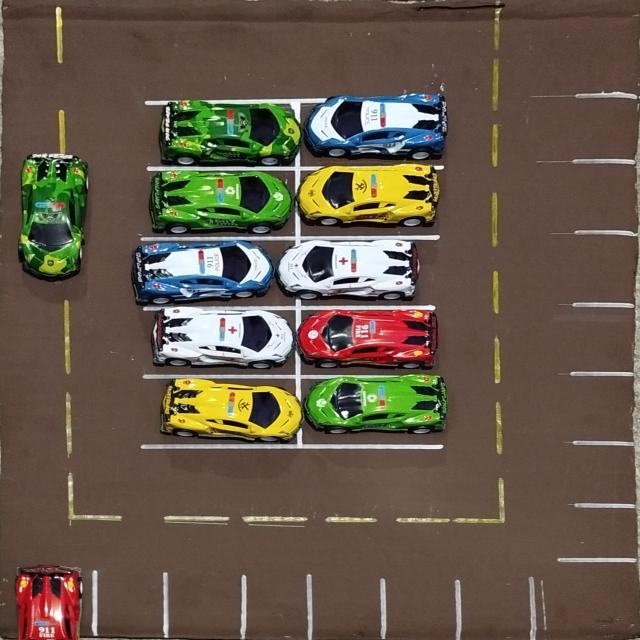libre: (93, 566, 166, 640), (167, 571, 245, 640), (384, 574, 458, 640), (460, 575, 534, 640), (245, 572, 312, 640), (573, 373, 640, 441), (575, 304, 640, 374), (577, 231, 640, 303), (313, 575, 382, 640), (576, 162, 640, 232), (574, 441, 640, 506), (577, 93, 640, 160), (574, 505, 640, 560)
ocupado: (146, 377, 300, 446), (299, 373, 440, 448), (145, 168, 296, 238), (146, 238, 298, 307), (146, 308, 296, 377), (144, 100, 296, 168), (296, 98, 444, 167), (296, 168, 441, 238), (299, 238, 439, 306), (296, 306, 438, 372), (1, 563, 92, 640)
